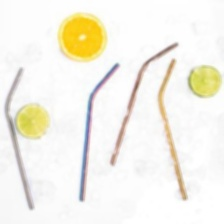drinking_straw: (107, 36, 184, 168), (74, 59, 126, 203), (154, 55, 197, 201), (1, 62, 41, 211)
